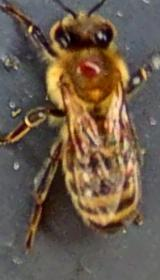varroa_mite: (68, 54, 113, 90)
